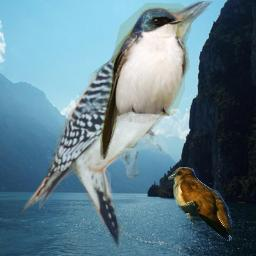Cuckoo: (168, 167, 232, 242)
Swallow: (100, 2, 191, 160)
Woodpecker: (19, 1, 213, 254)
